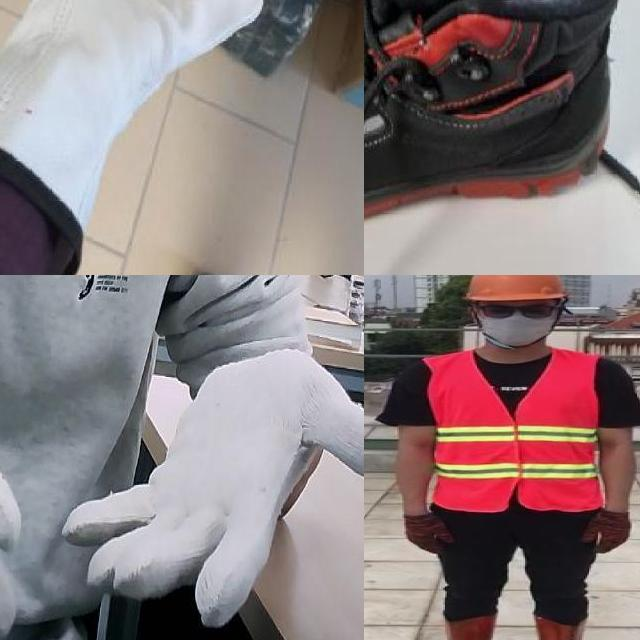BOOTS: (364, 0, 629, 216), (527, 611, 600, 640), (429, 614, 497, 640)
GLASS: (470, 302, 565, 319)
GLOVE: (58, 345, 364, 640), (0, 0, 270, 181), (582, 506, 632, 556), (404, 511, 456, 558)
HELMET: (466, 275, 567, 303)
VEST: (422, 351, 603, 509)
